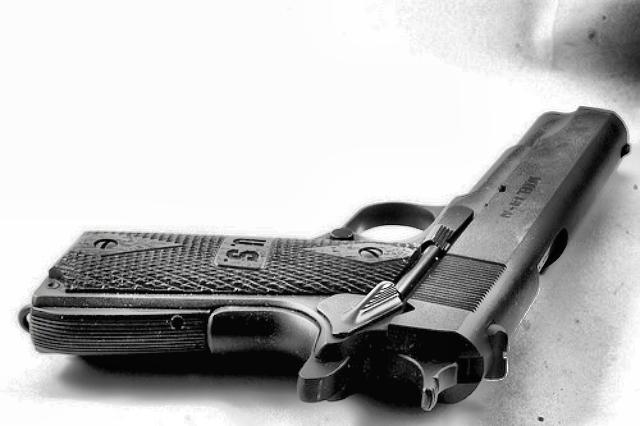pistol: (15, 106, 630, 414)
